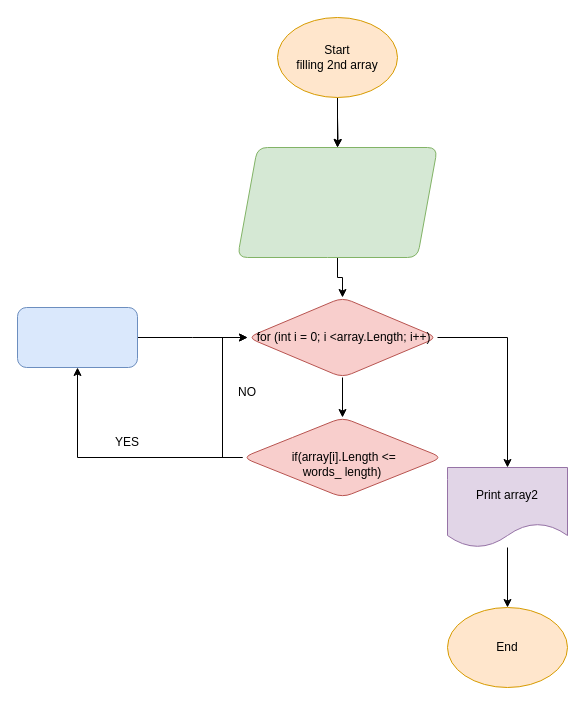
Some shapes in this 585 by 705 pixel diagram are drawn without their labels. The centre of each missing label's shape, as x and y in pixels:
"array2[count] = array[i]; count++" goes at point (77, 337).
"string [] array1 word_length =3 string [] array2 count=0" goes at point (337, 202).
